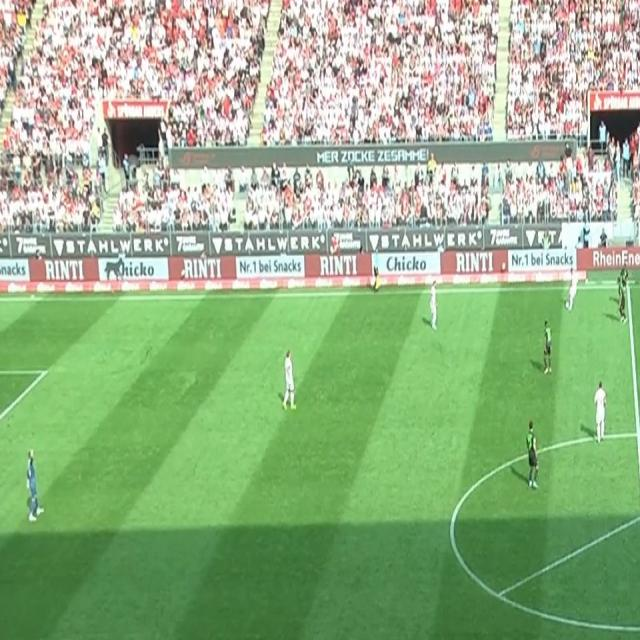ball: (566, 301, 570, 308)
